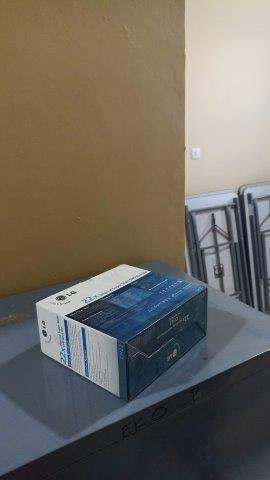kardus: (36, 265, 207, 400)
